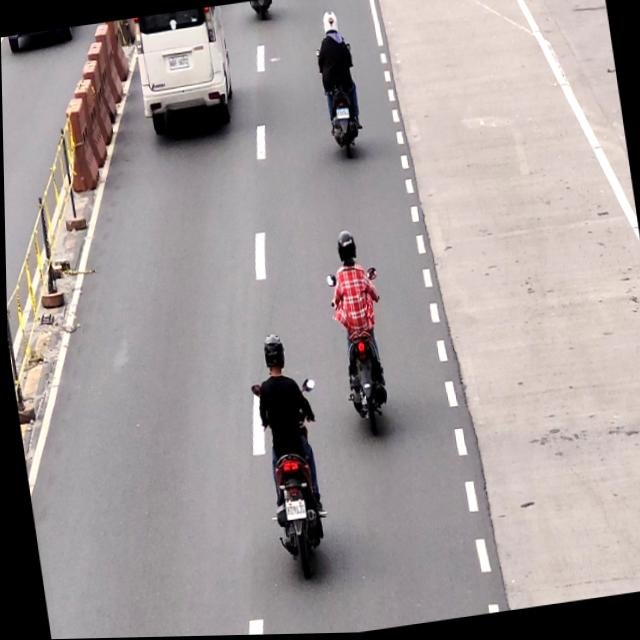Bus: (132, 6, 238, 130)
License-Plate: (280, 499, 306, 523), (165, 53, 189, 71), (335, 108, 349, 123)
Motorcycle: (244, 332, 333, 589), (323, 231, 393, 443), (310, 8, 364, 163)
